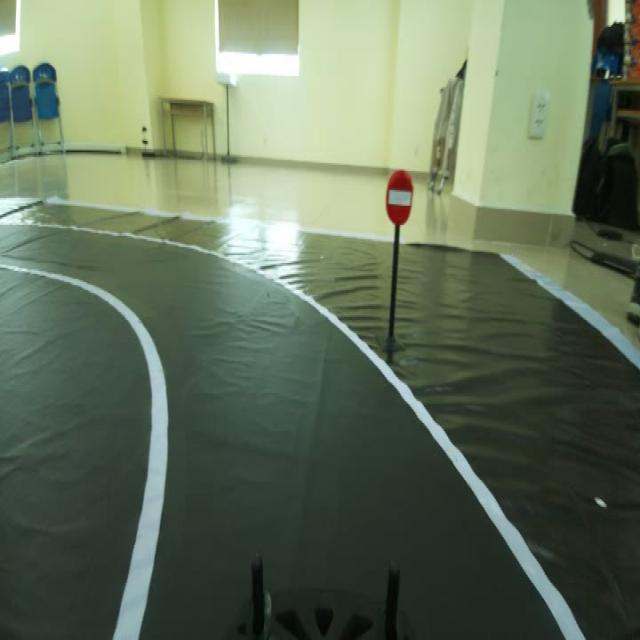no_entry: (382, 166, 418, 230)
